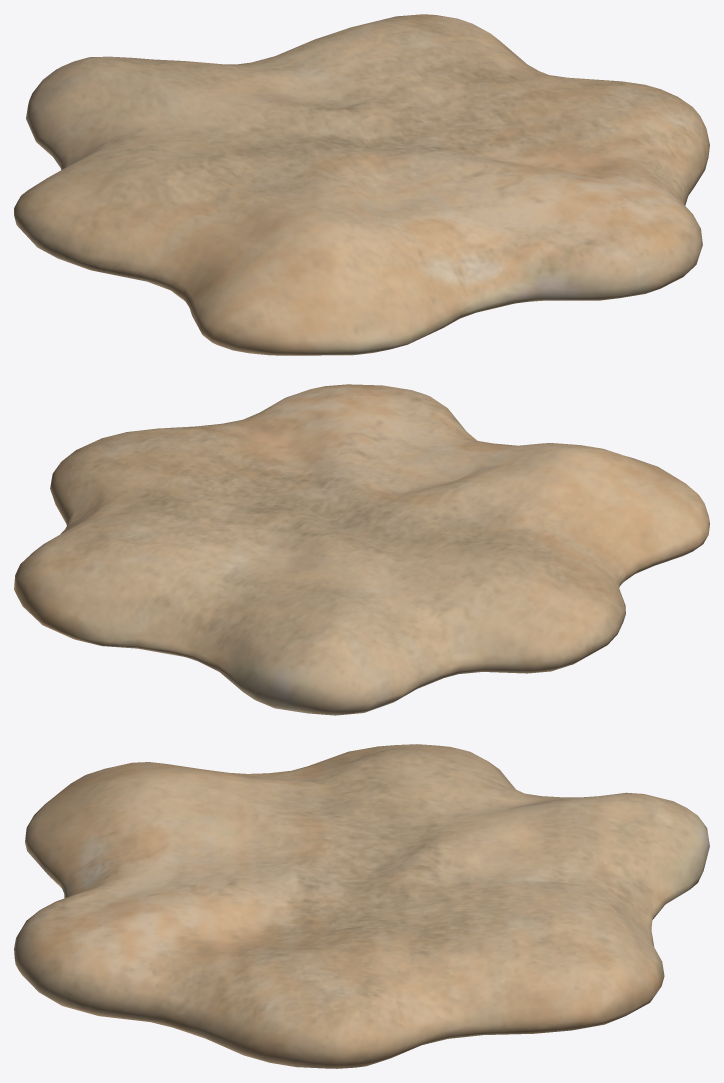
File: SM_Candle_low_002.fbx
The picture shows the model from 3 angles, top to bottom: view 1: azimuth 30°, elevation 25°; view 2: azimuth 150°, elevation 25°; view 3: azimuth 270°, elevation 25°; orthographic projection. The views are drawn at different scales.
Parts seen in each view (by area): view 1: SM_Candle_low_002_LOD0; view 2: SM_Candle_low_002_LOD0; view 3: SM_Candle_low_002_LOD0.
Boxes of the visible parts, x1=… form: SM_Candle_low_002_LOD0: x1=14, y1=14, x2=709, y2=355; SM_Candle_low_002_LOD0: x1=14, y1=384, x2=709, y2=715; SM_Candle_low_002_LOD0: x1=14, y1=744, x2=709, y2=1068.
Size of the model in its own units: 23.04 by 22.62 by 3.16.
1 material, 1 textured.
